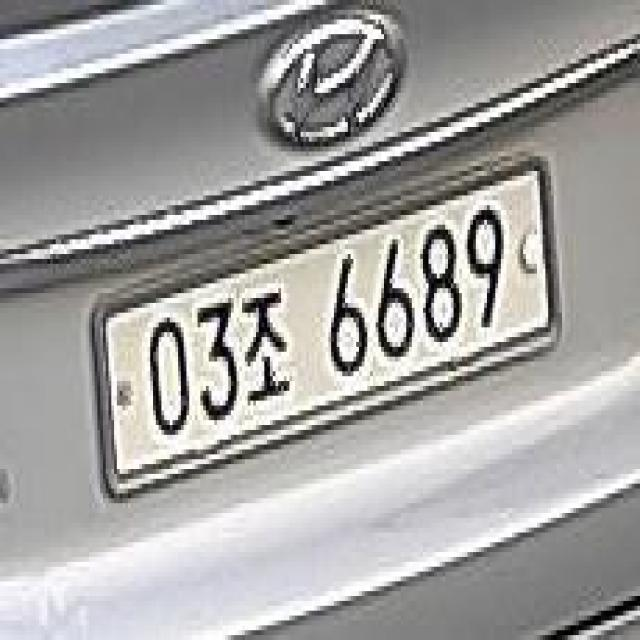illegal_plate: (88, 152, 561, 518)
